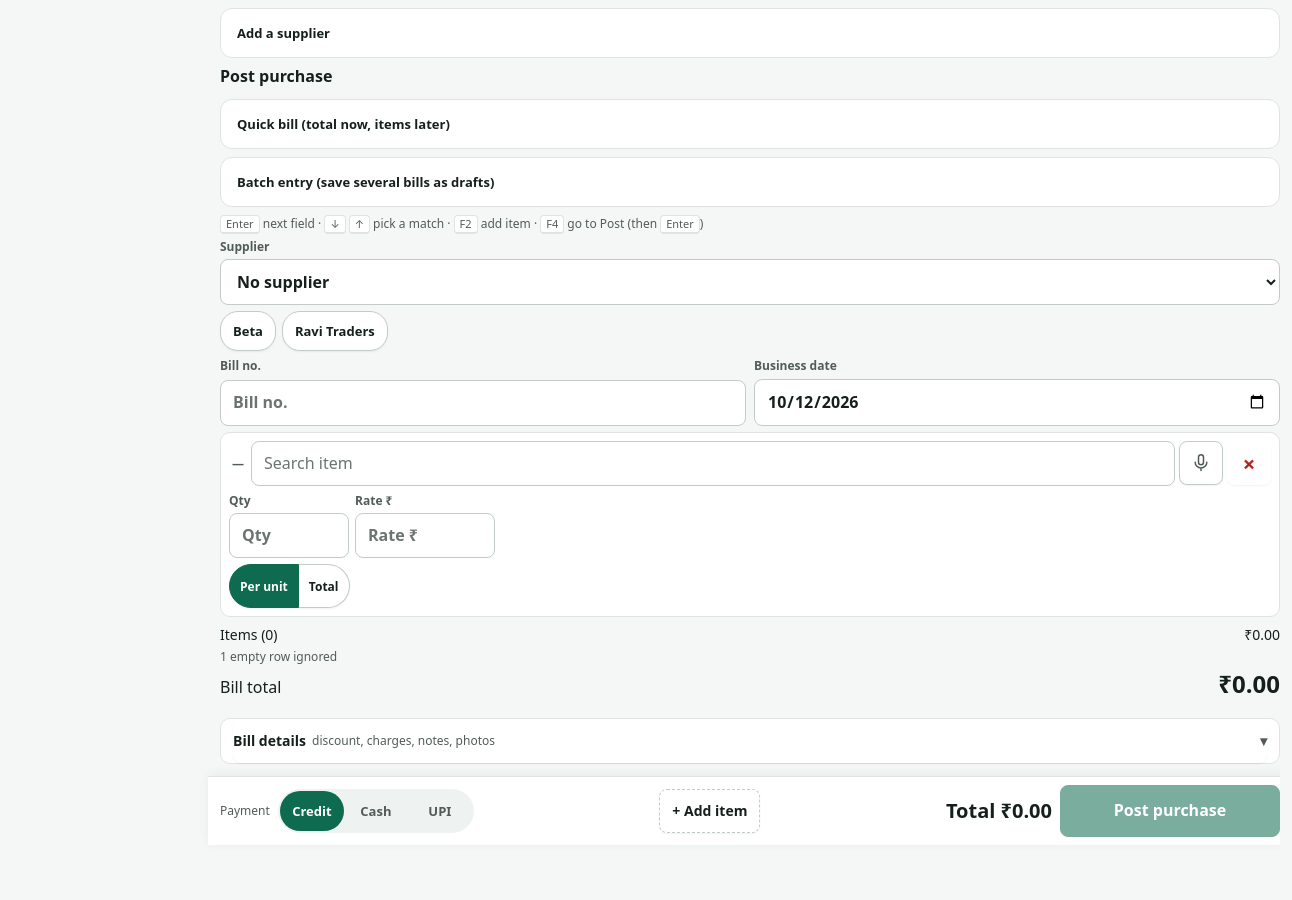
usual items: the message counts exactly the rows added; payment type is not next to + Add item
The width and height of the screenshot is (1292, 900).
Expected: the date field named "date" holds "2026-10-12", x1=754 y1=378 x2=1280 y2=426
Expected: the element that starts with "Qty" is enabled, x1=220 y1=426 x2=1280 y2=710
Select "Ravi Traders" in the dropdown named "partyId" at (750, 282), box x1=220 y1=259 x2=1280 y2=305
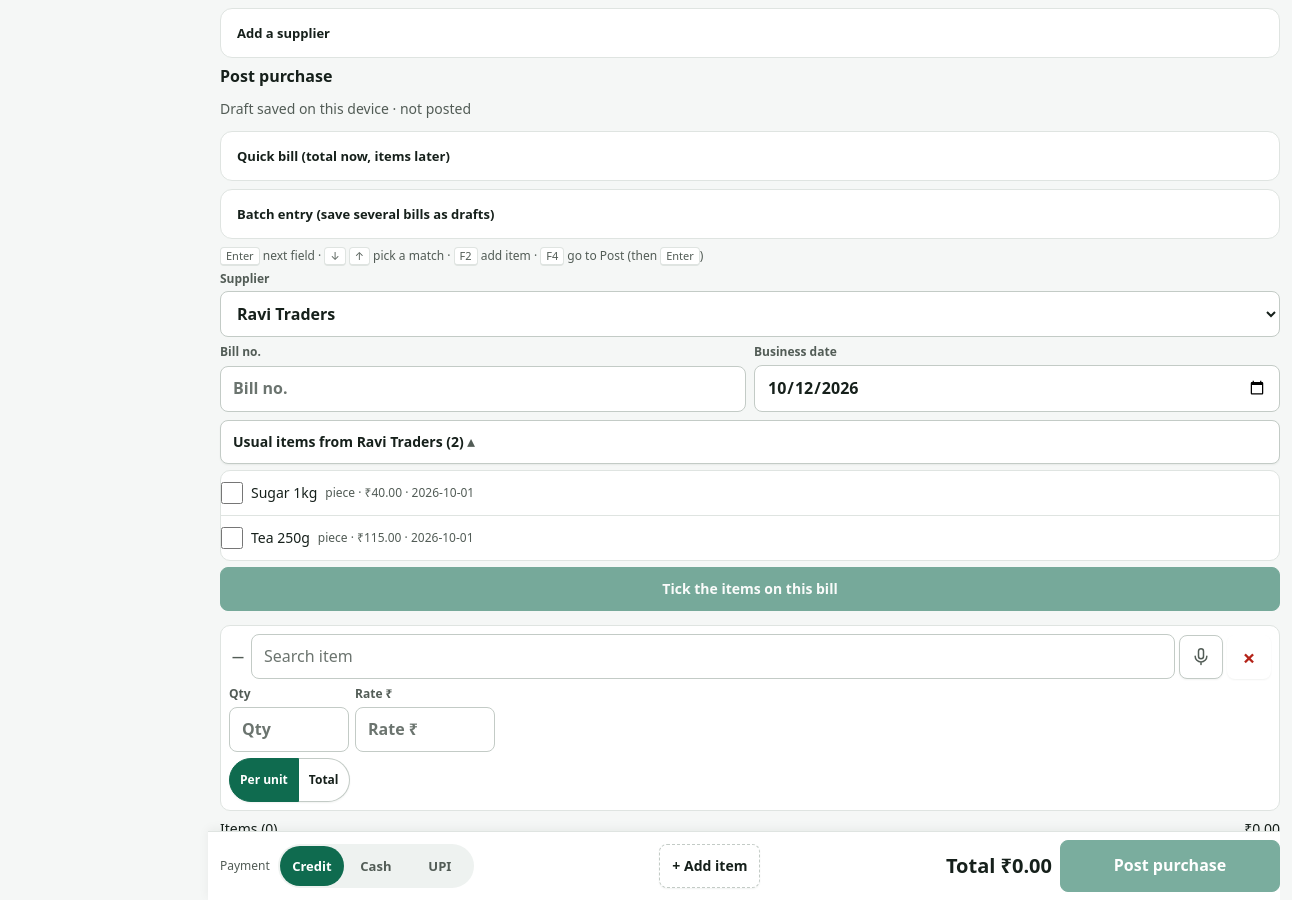
Expected: the number of labels with class "usual-row" is 2, x1=221 y1=482 x2=474 y2=504; x1=221 y1=527 x2=474 y2=549
Type "Sugar 1kg" into the field with placeholder "Search item" at (713, 657), box x1=251 y1=634 x2=1175 y2=679
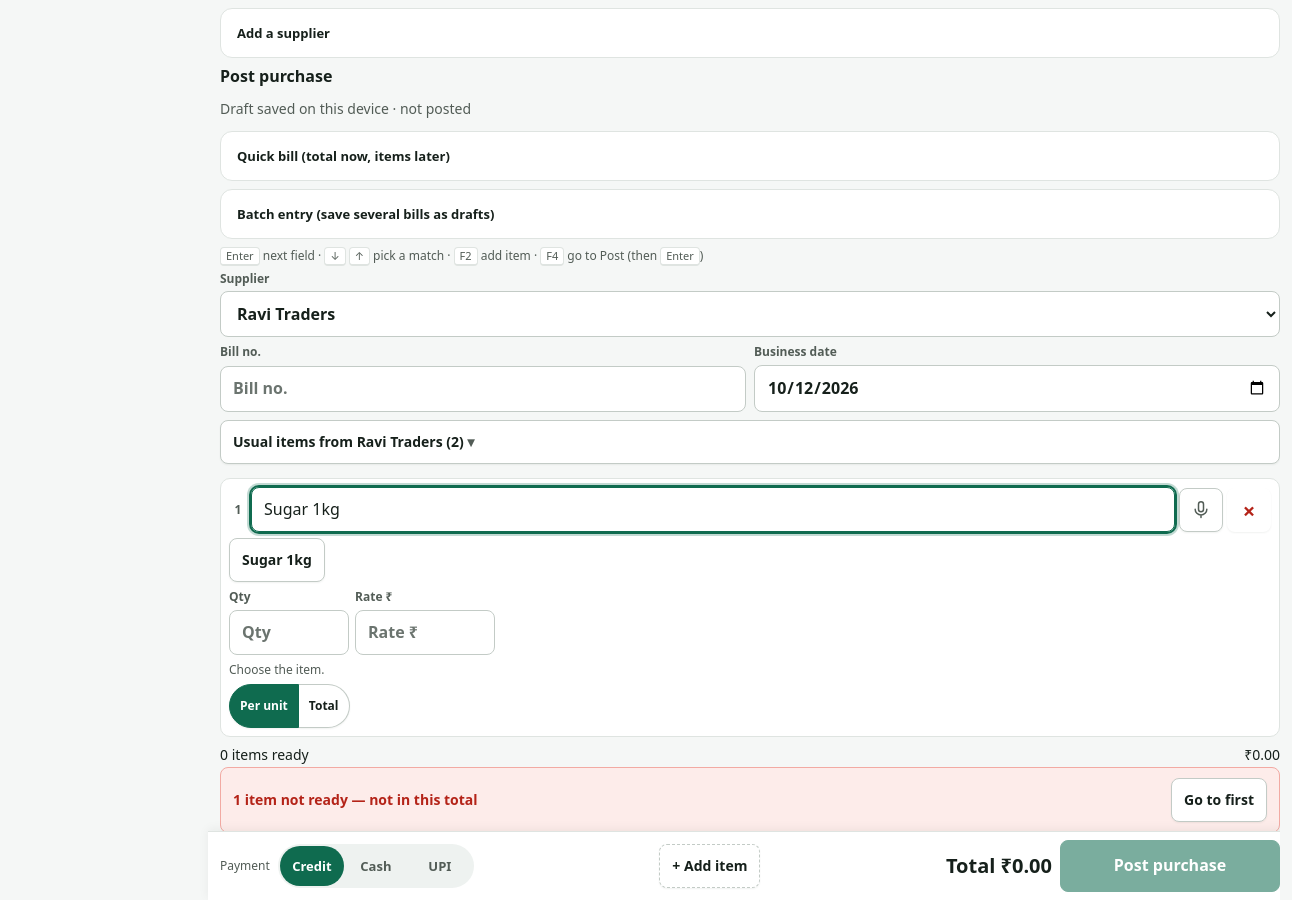
Press Enter in the field named "Item 1 name", box x1=251 y1=487 x2=1175 y2=532
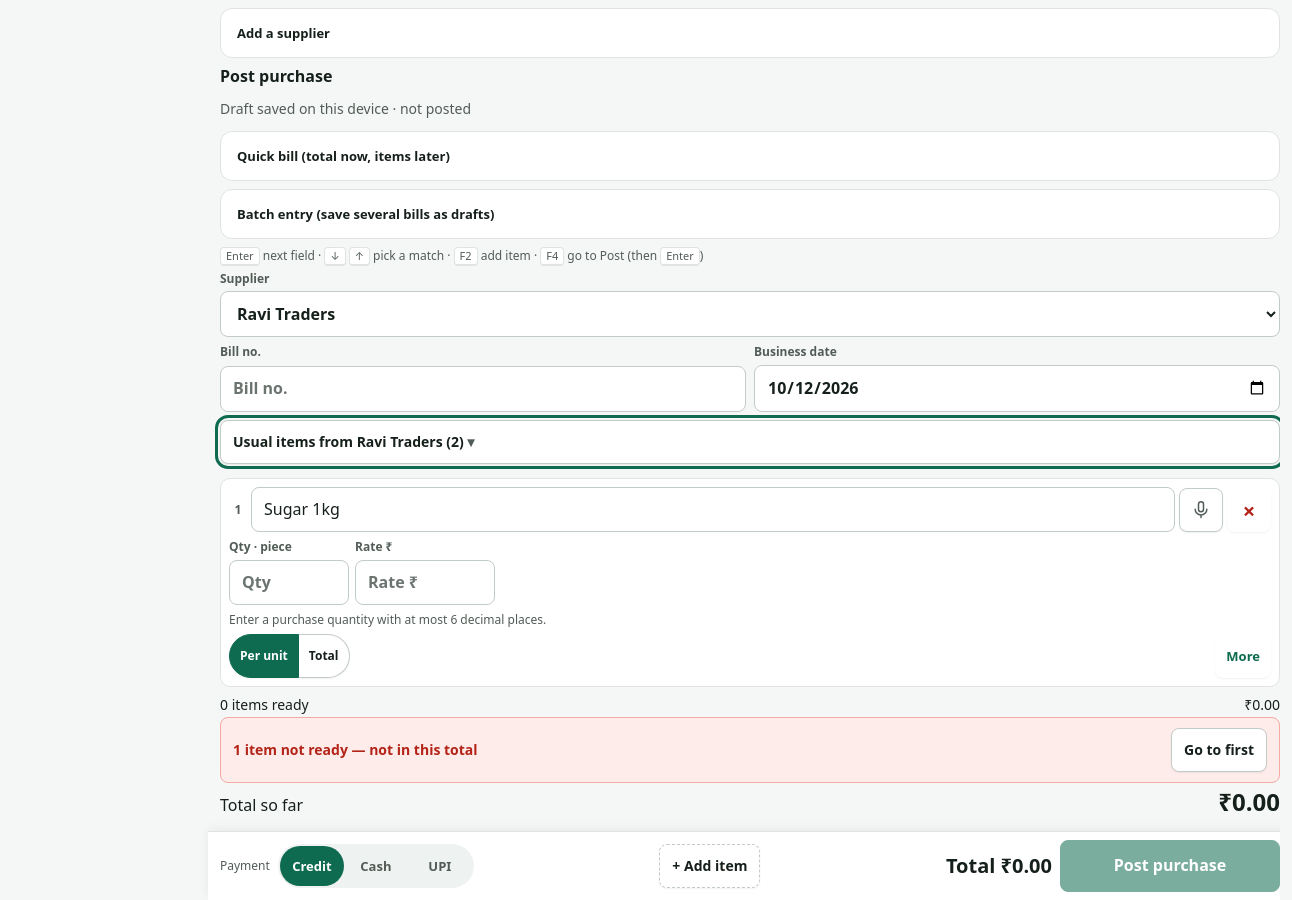
Click the button with class "usual-toggle" at (295, 441), box x1=220 y1=420 x2=1280 y2=464
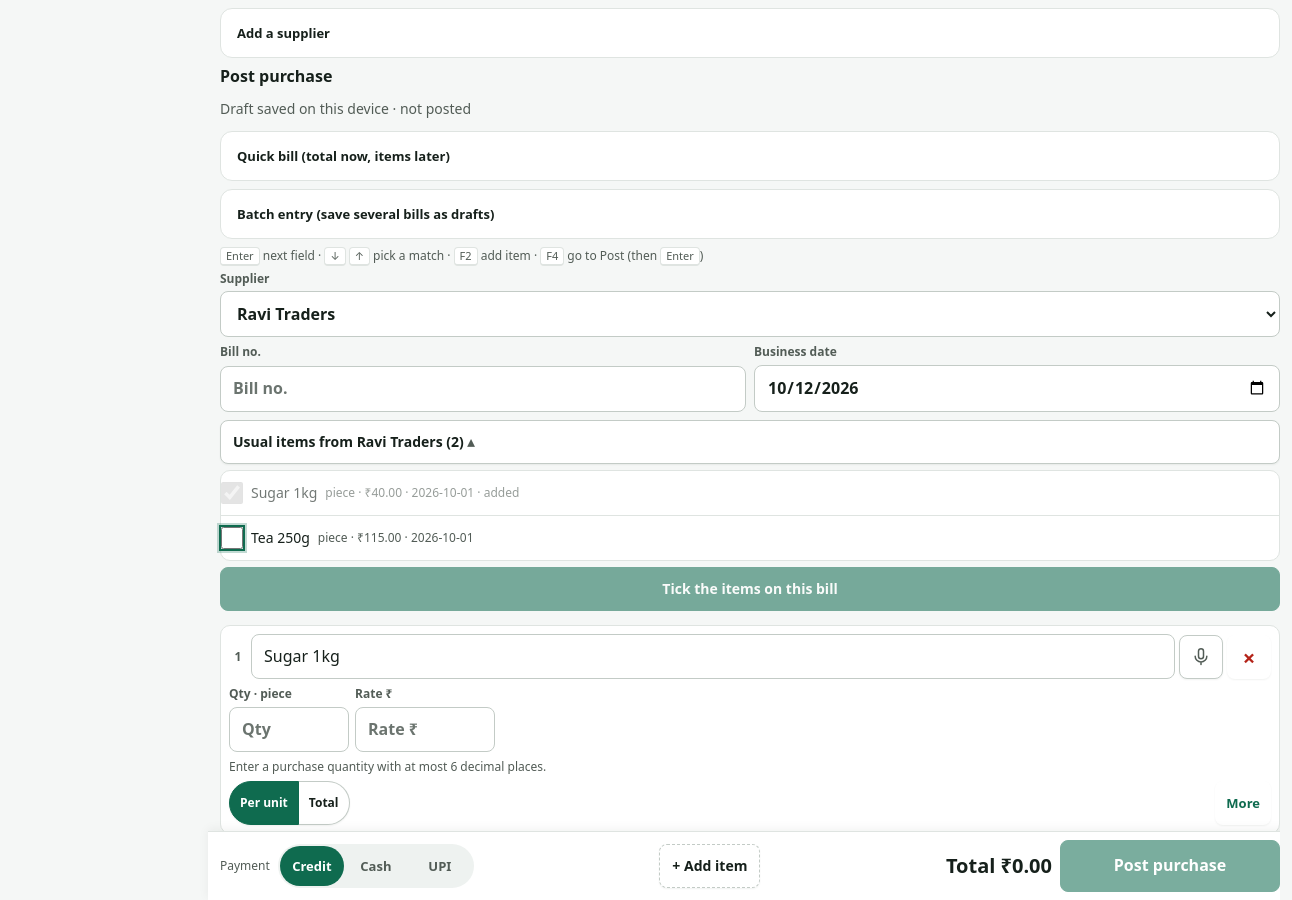
Click the checkbox labelled "Tea 250g piece · ₹115.00 · 2026-10-01" at (232, 538), box x1=221 y1=527 x2=243 y2=549
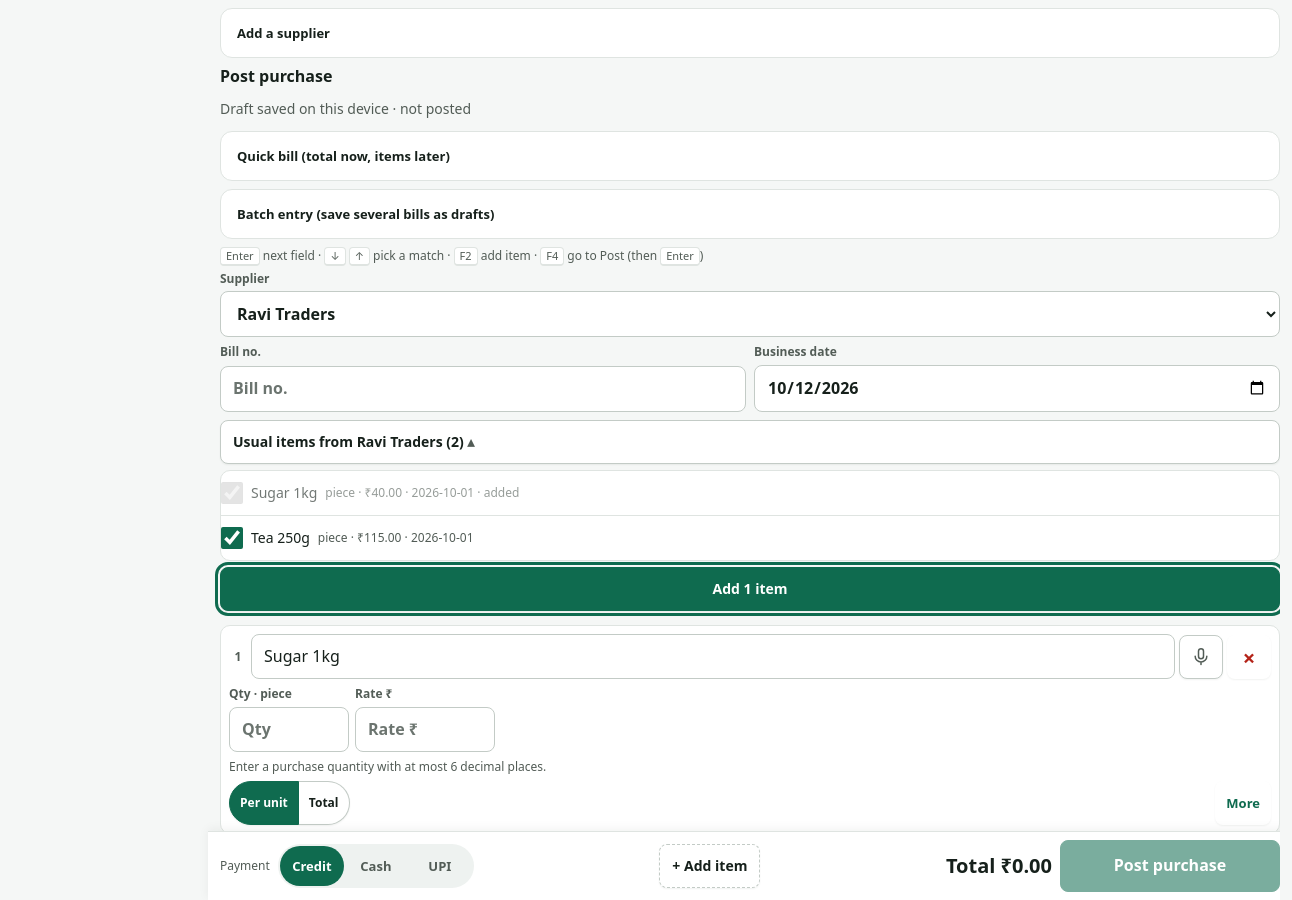
Click the button "Add 1 item" at (750, 589), box x1=220 y1=567 x2=1280 y2=611
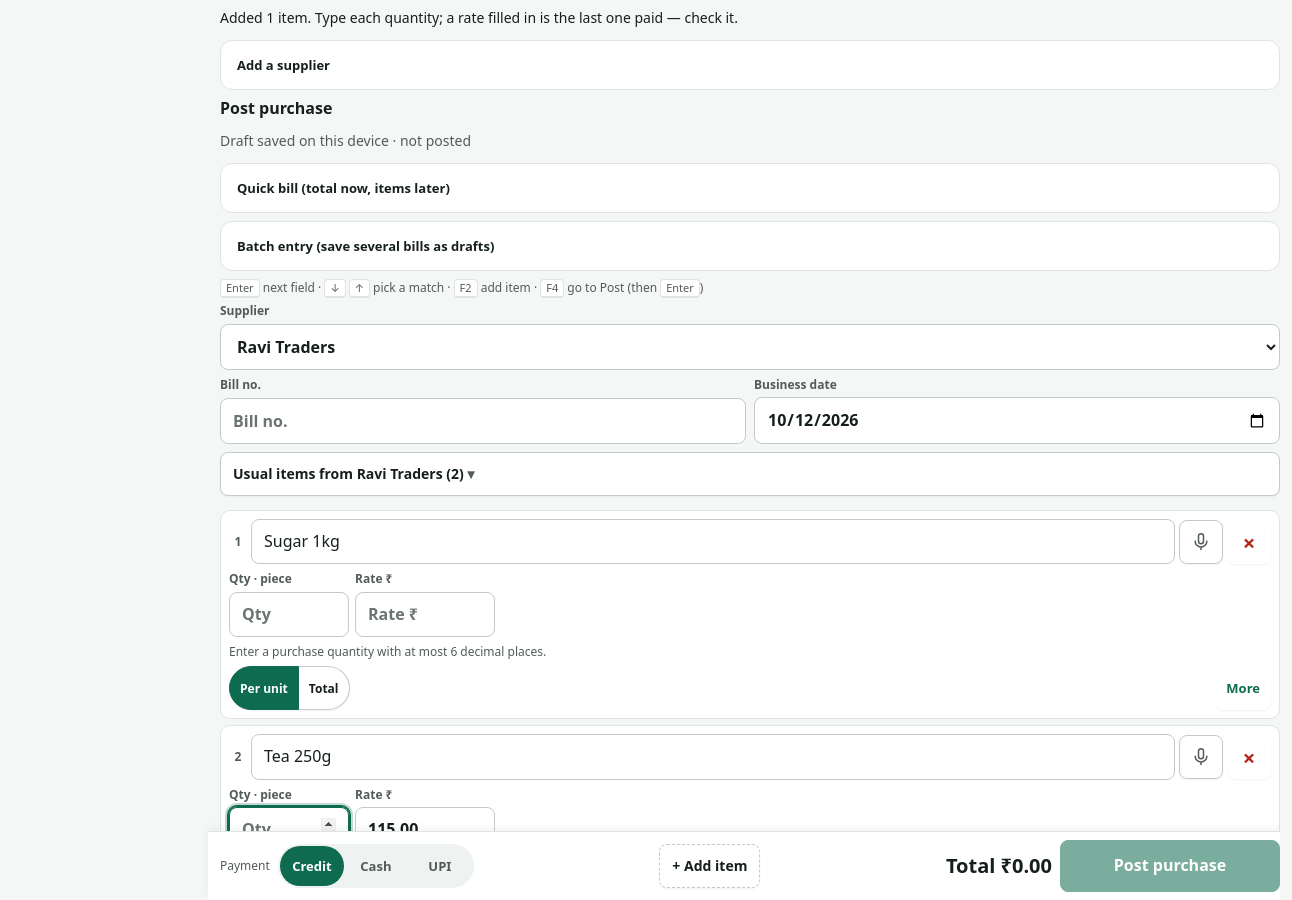
Expected: the text "Added 1 item." is shown, x1=220 y1=8 x2=738 y2=27
